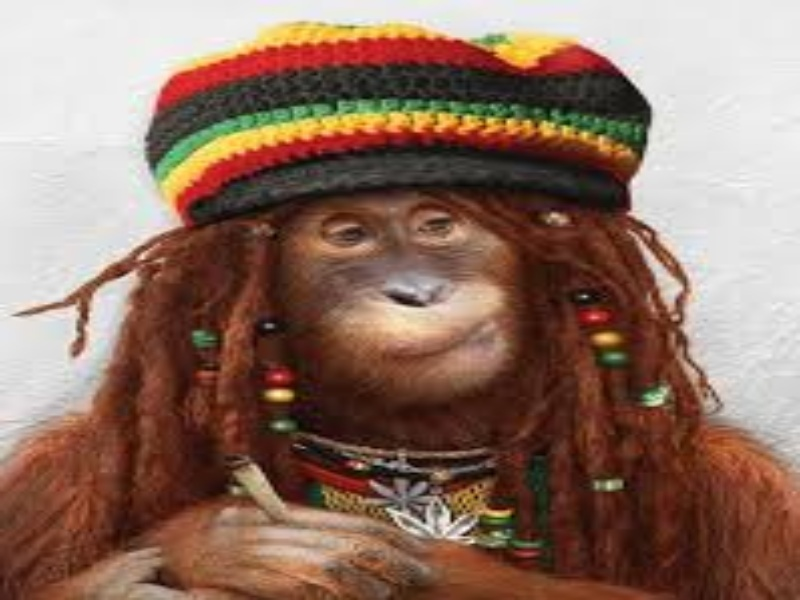monkey: (12, 14, 784, 593)
